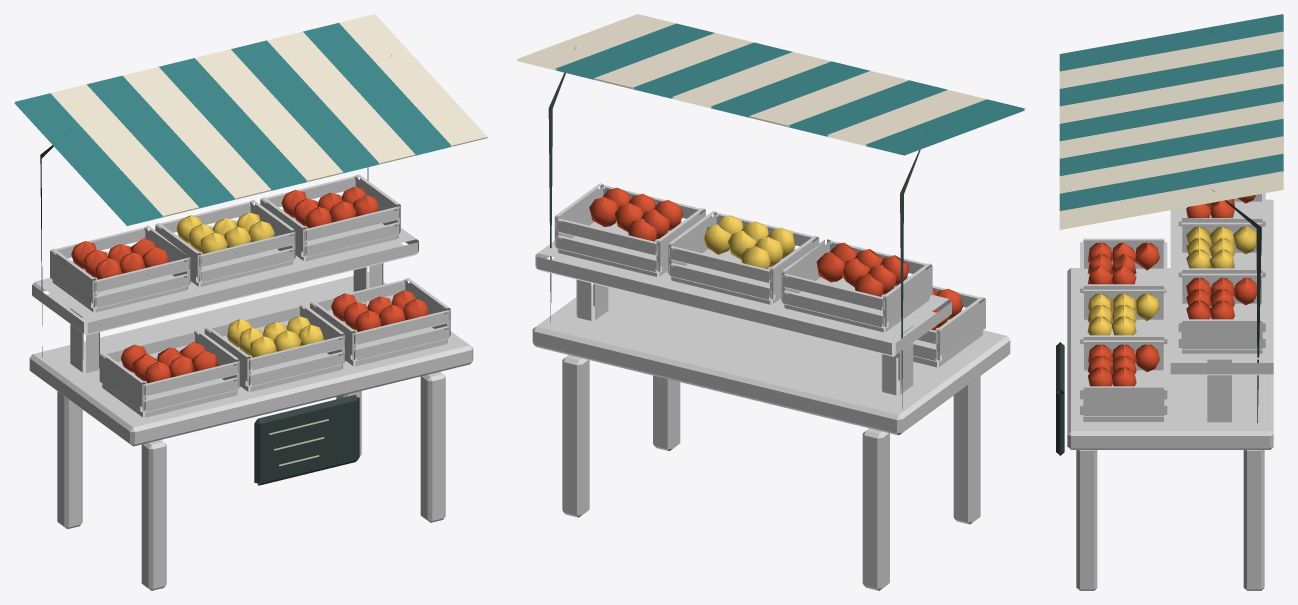
Rendered from MarketDisplay_LOD1.glb.
The picture shows the model from 3 angles, left to right: view 1: azimuth 30°, elevation 25°; view 2: azimuth 150°, elevation 25°; view 3: azimuth 270°, elevation 25°; orthographic projection. The views are drawn at different scales.
Visible parts, largest first — view 1: RK_MarketDisplay_LOD1_RK_Wood, RK_MarketDisplay_LOD1_RK_CanvasCream, RK_MarketDisplay_LOD1_RK_CanvasBlue, RK_MarketDisplay_LOD1_RK_ProduceRed, RK_MarketDisplay_LOD1_RK_Iron, RK_MarketDisplay_LOD1_RK_ProduceGold; view 2: RK_MarketDisplay_LOD1_RK_Wood, RK_MarketDisplay_LOD1_RK_CanvasBlue, RK_MarketDisplay_LOD1_RK_CanvasCream, RK_MarketDisplay_LOD1_RK_ProduceRed, RK_MarketDisplay_LOD1_RK_ProduceGold, RK_MarketDisplay_LOD1_RK_Iron; view 3: RK_MarketDisplay_LOD1_RK_Wood, RK_MarketDisplay_LOD1_RK_CanvasCream, RK_MarketDisplay_LOD1_RK_CanvasBlue, RK_MarketDisplay_LOD1_RK_ProduceRed, RK_MarketDisplay_LOD1_RK_ProduceGold, RK_MarketDisplay_LOD1_RK_Iron.
Boxes of the visible parts, bbox=[...] form: RK_MarketDisplay_LOD1_RK_Wood: bbox=[29, 174, 473, 590]; RK_MarketDisplay_LOD1_RK_CanvasCream: bbox=[50, 14, 487, 466]; RK_MarketDisplay_LOD1_RK_CanvasBlue: bbox=[14, 23, 451, 225]; RK_MarketDisplay_LOD1_RK_ProduceRed: bbox=[71, 187, 428, 383]; RK_MarketDisplay_LOD1_RK_Iron: bbox=[40, 55, 391, 485]; RK_MarketDisplay_LOD1_RK_ProduceGold: bbox=[176, 212, 323, 357]; RK_MarketDisplay_LOD1_RK_Wood: bbox=[532, 183, 1010, 590]; RK_MarketDisplay_LOD1_RK_CanvasBlue: bbox=[555, 23, 1025, 155]; RK_MarketDisplay_LOD1_RK_CanvasCream: bbox=[516, 14, 986, 145]; RK_MarketDisplay_LOD1_RK_ProduceRed: bbox=[589, 187, 962, 330]; RK_MarketDisplay_LOD1_RK_ProduceGold: bbox=[703, 215, 795, 269]; RK_MarketDisplay_LOD1_RK_Iron: bbox=[548, 47, 927, 408]; RK_MarketDisplay_LOD1_RK_Wood: bbox=[1067, 193, 1273, 590]; RK_MarketDisplay_LOD1_RK_CanvasCream: bbox=[1059, 31, 1283, 229]; RK_MarketDisplay_LOD1_RK_CanvasBlue: bbox=[1059, 14, 1283, 210]; RK_MarketDisplay_LOD1_RK_ProduceRed: bbox=[1087, 195, 1256, 386]; RK_MarketDisplay_LOD1_RK_ProduceGold: bbox=[1087, 226, 1256, 335]; RK_MarketDisplay_LOD1_RK_Iron: bbox=[1056, 31, 1261, 455].
Bounding box in the file's own units: 1.68 × 1.88 × 0.9325.
